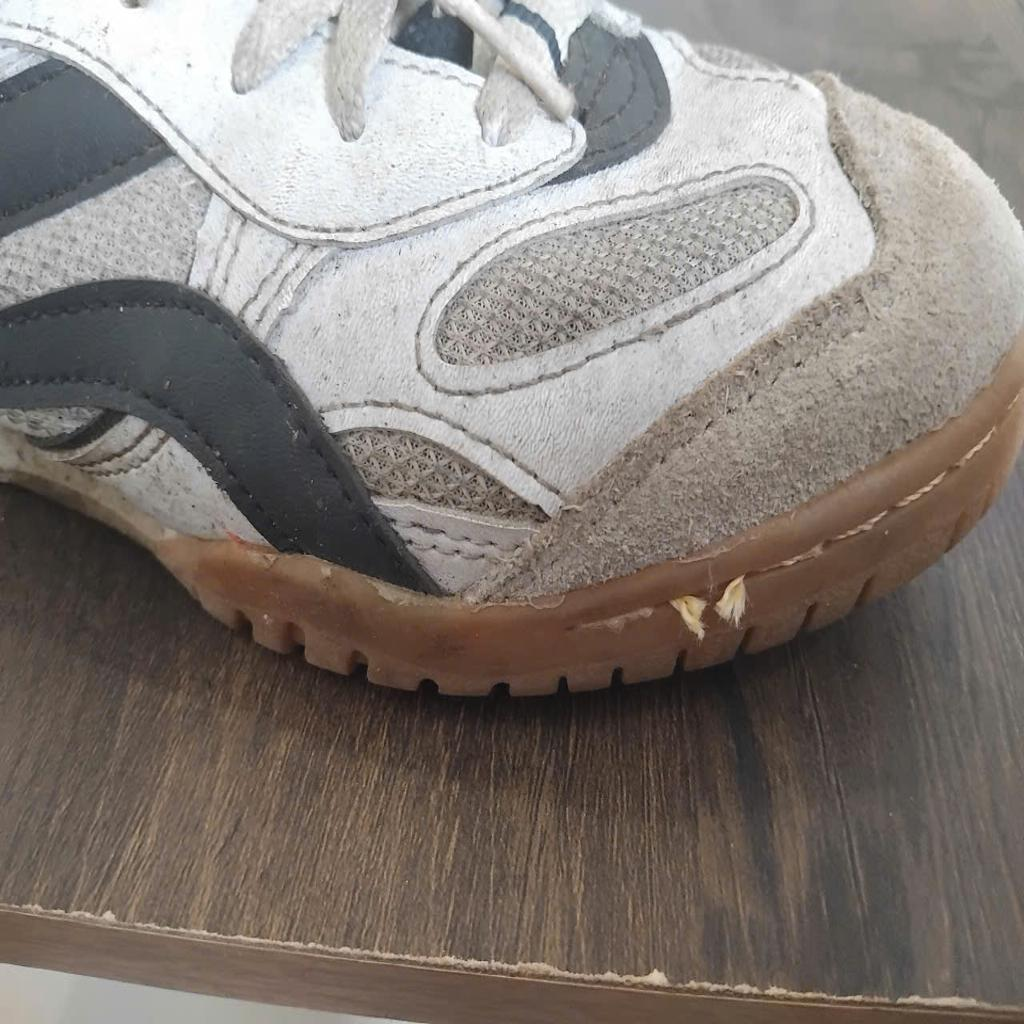broken: (663, 571, 761, 649)
